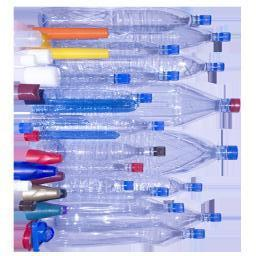plastic: (5, 13, 249, 241)
